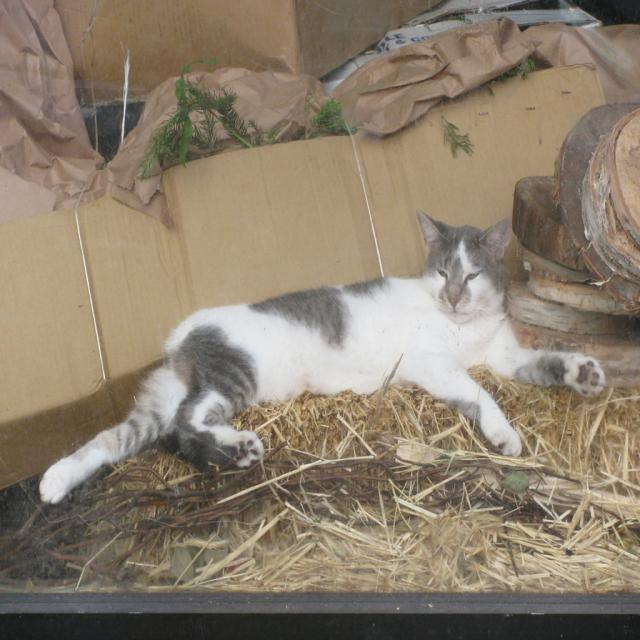Cat: (37, 206, 606, 503)
